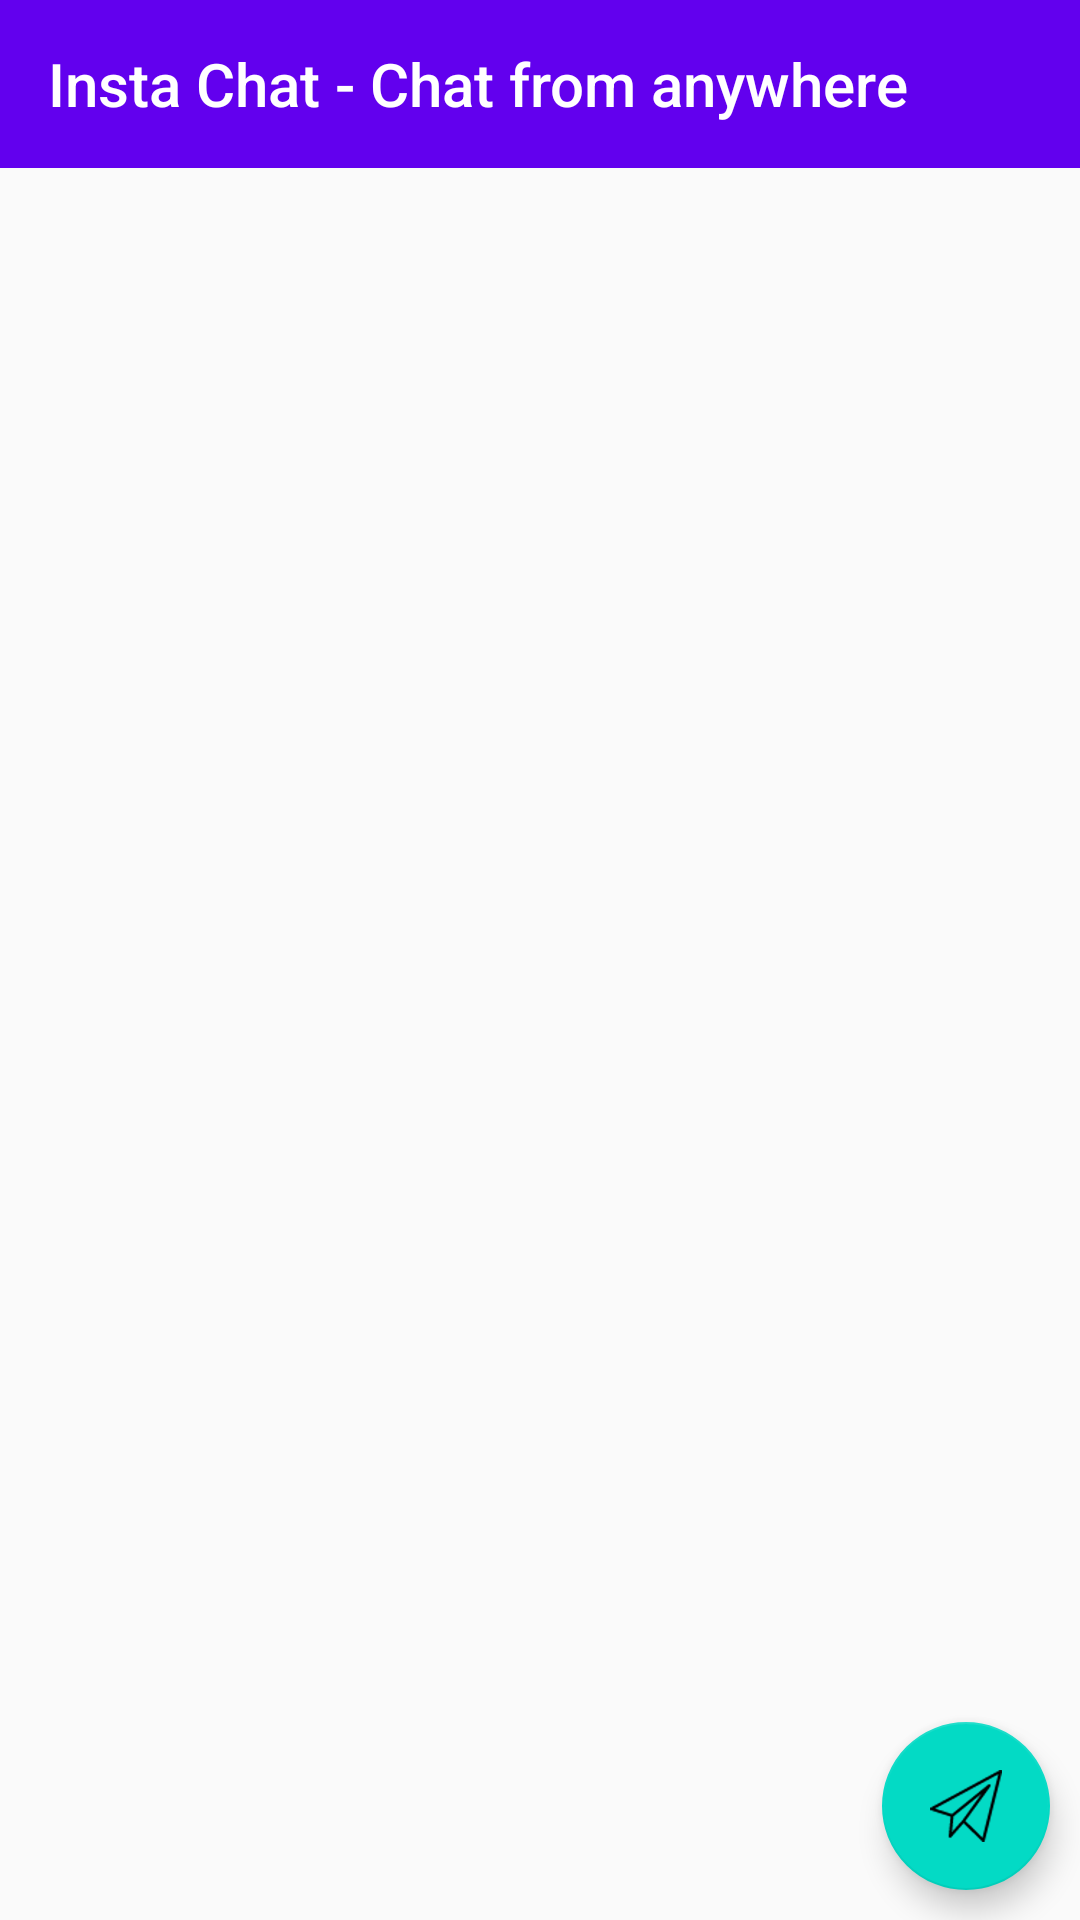

Icons on this 1080w x 1920h Android screen, each with its box as (x1, y1, x2, y2):
send: (882, 1722, 1050, 1890)
